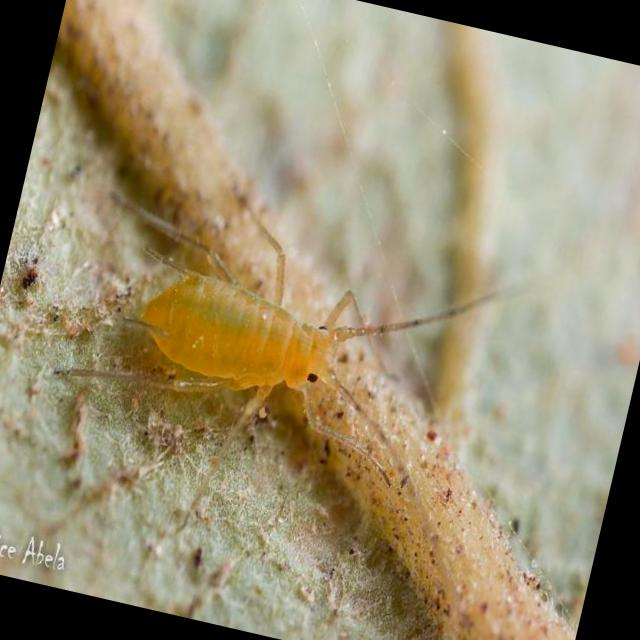aphid: (56, 154, 487, 522)
